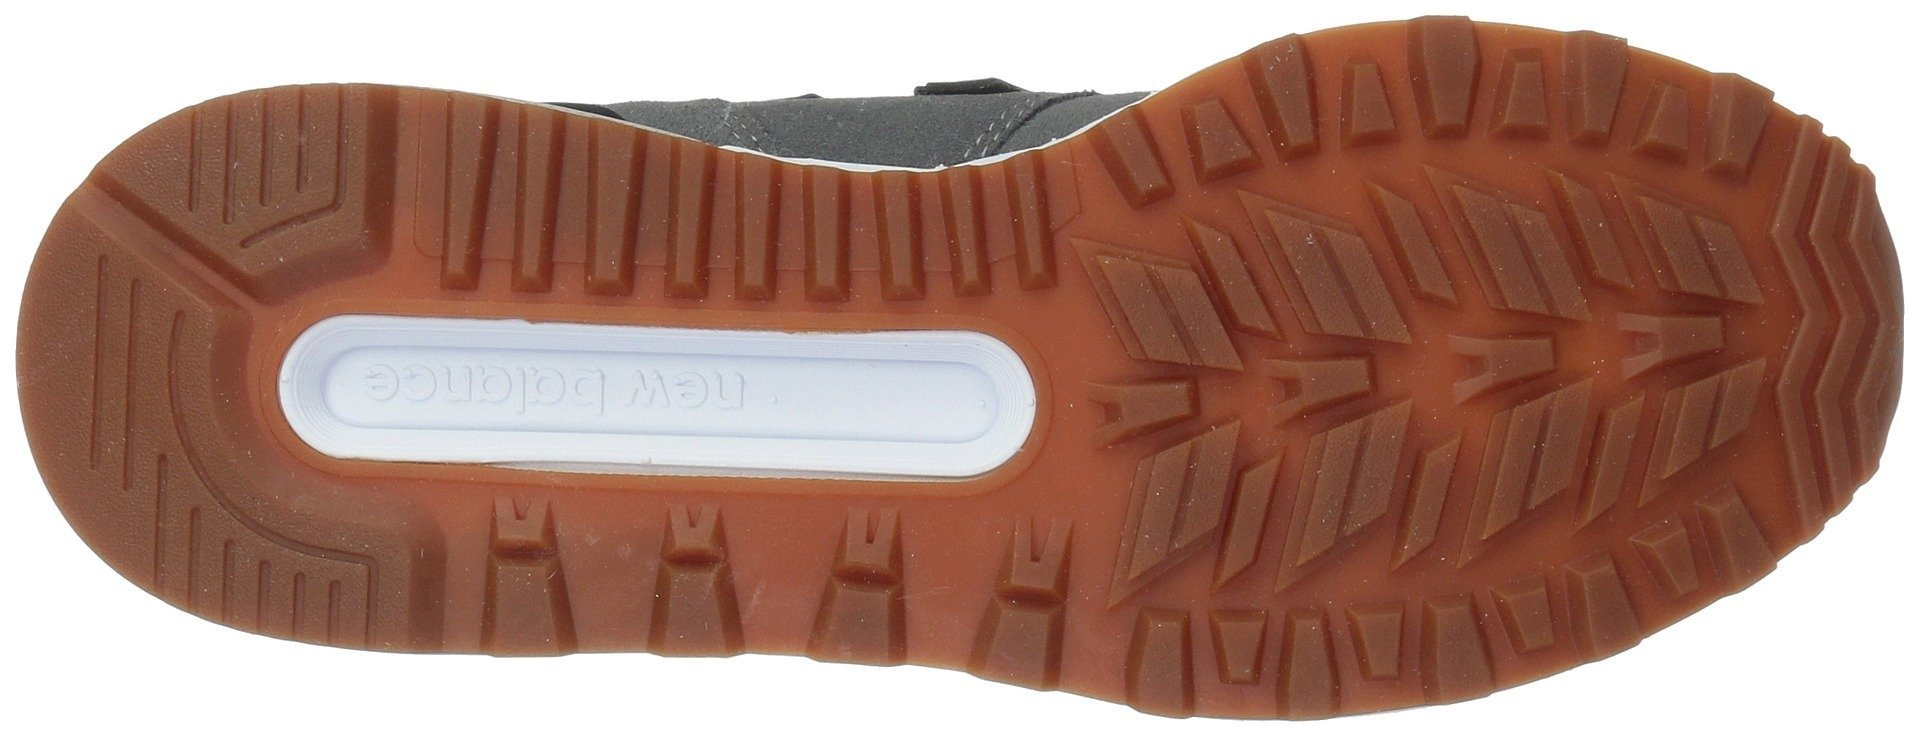chevron: (1744, 112, 1897, 490)
line: (70, 234, 148, 530)
quad: (1432, 136, 1635, 322), (433, 122, 633, 310), (1086, 217, 1262, 378), (1223, 416, 1385, 587), (1272, 182, 1430, 342), (1414, 405, 1566, 567), (658, 175, 826, 313), (874, 183, 1016, 328), (1169, 97, 1268, 179)
text: (641, 350, 743, 437), (548, 357, 619, 439), (351, 347, 424, 426), (448, 346, 522, 422)
